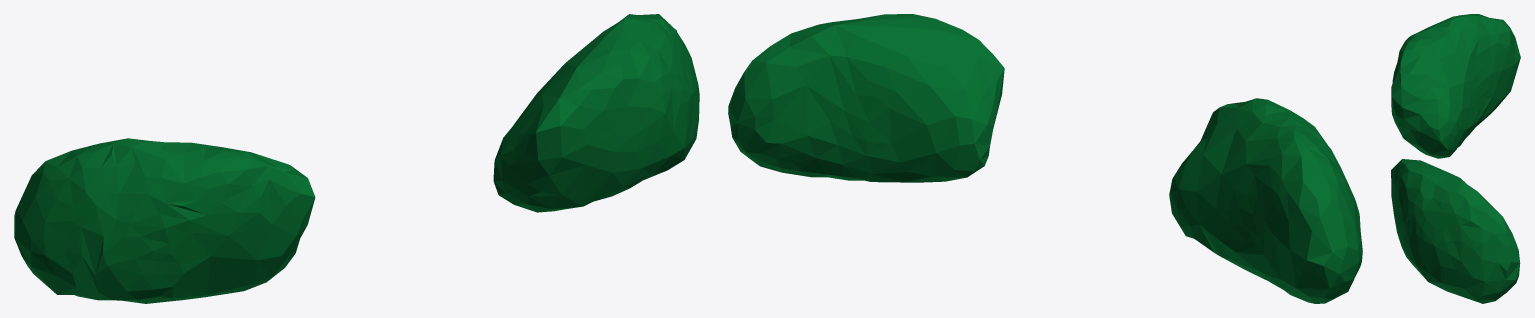
File: 97-IGP-internal globus pallidus-('0.0000', '0.4980', '0.2078').obj
3 renders of one model, left to right at view 1: azimuth 30°, elevation 25°; view 2: azimuth 150°, elevation 25°; view 3: azimuth 270°, elevation 25°, orthographic. The views are drawn at different scales.
Bounding box in the file's own units: 148 × 34.68 × 36.71.
